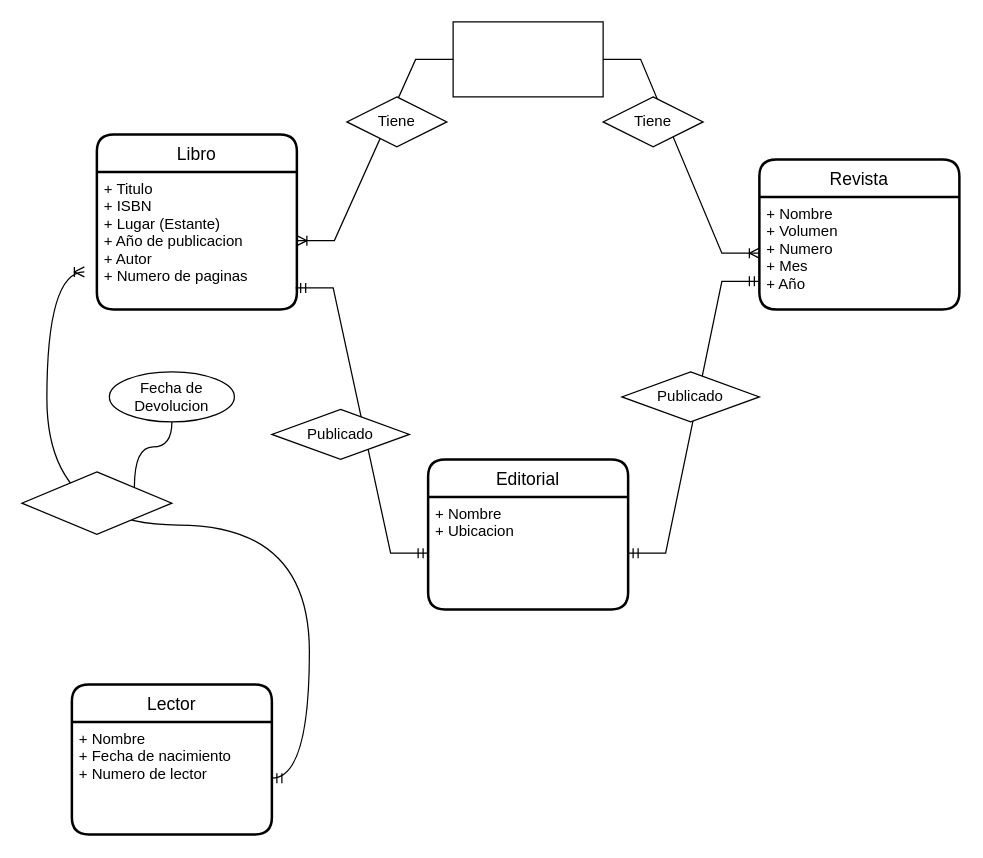
The diagram is 983 pixels wide and 858 high, and some of its shapes have lost their labels. Here are the shapes that lost their labels. From the top down, the centre of each, then its label:
point (527, 59): Biblioteca
point (96, 502): Prestado
